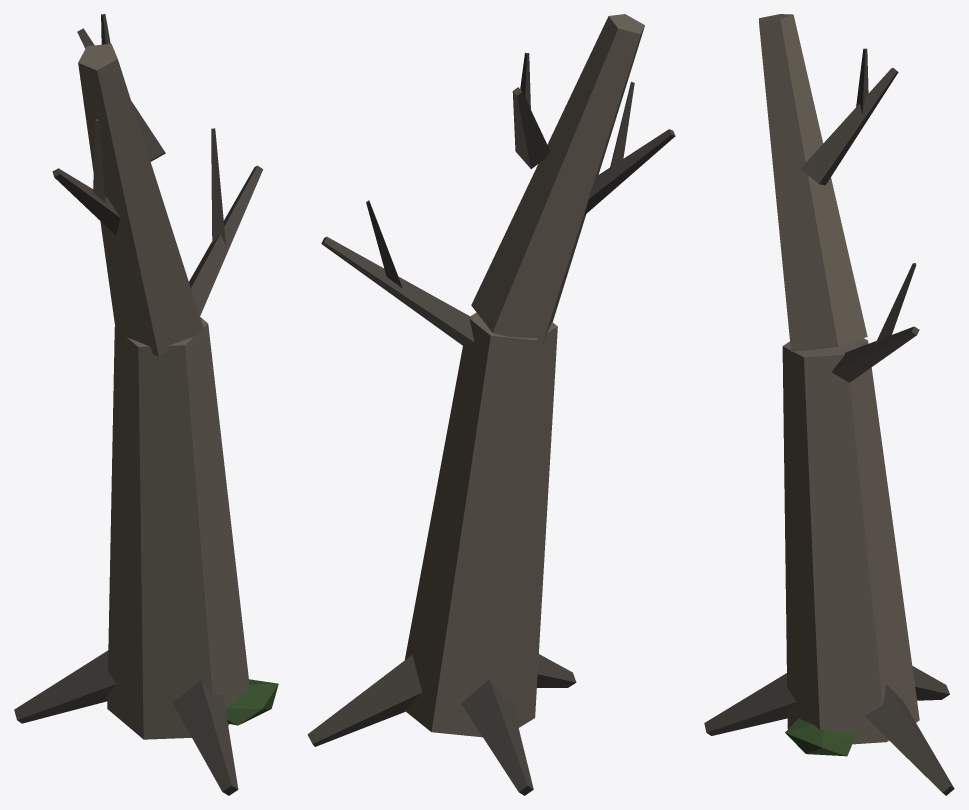
Rendered from obj_tree_a.glb.
3 renders of one model, left to right at view 1: azimuth 30°, elevation 25°; view 2: azimuth 150°, elevation 25°; view 3: azimuth 270°, elevation 25°, orthographic. The views are drawn at different scales.
Visible parts, largest first — view 1: obj_tree_a; view 2: obj_tree_a; view 3: obj_tree_a.
Part boxes in pixels (x1=…): obj_tree_a: x1=14, y1=14, x2=278, y2=795; obj_tree_a: x1=307, y1=14, x2=675, y2=795; obj_tree_a: x1=704, y1=14, x2=954, y2=795.
Bounding box in the file's own units: 0.779 × 1.93 × 0.6429.
